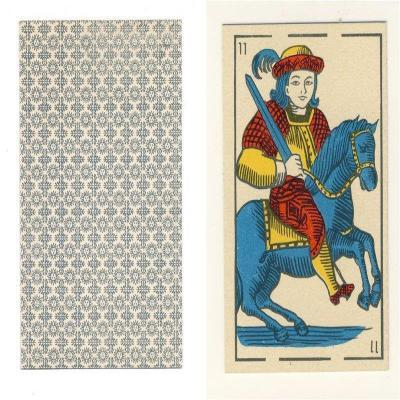graphics: (18, 16, 186, 373), (222, 21, 390, 373)
